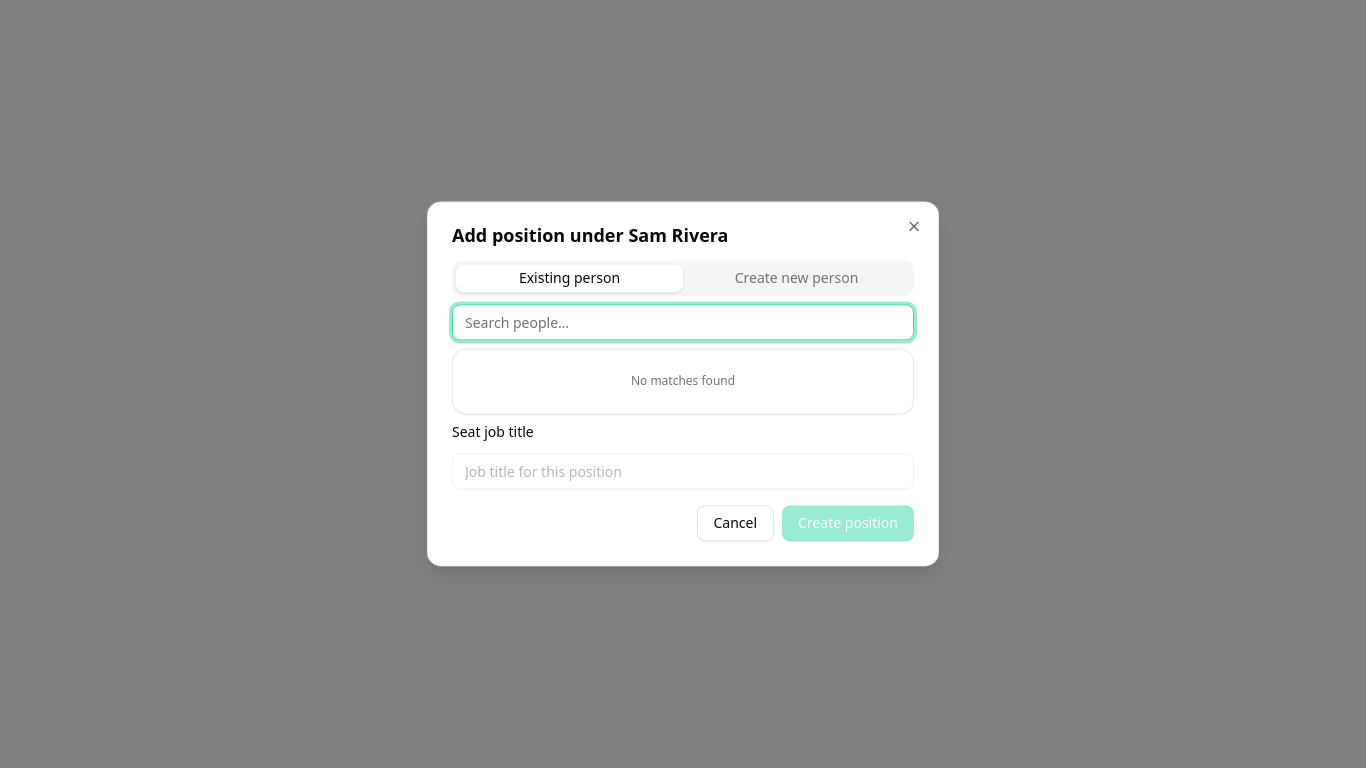
Test: AddNodeDialog › explains why a new person cannot be created
Click the button "Create new person". click: (796, 278)
box: 683,264 -> 910,292
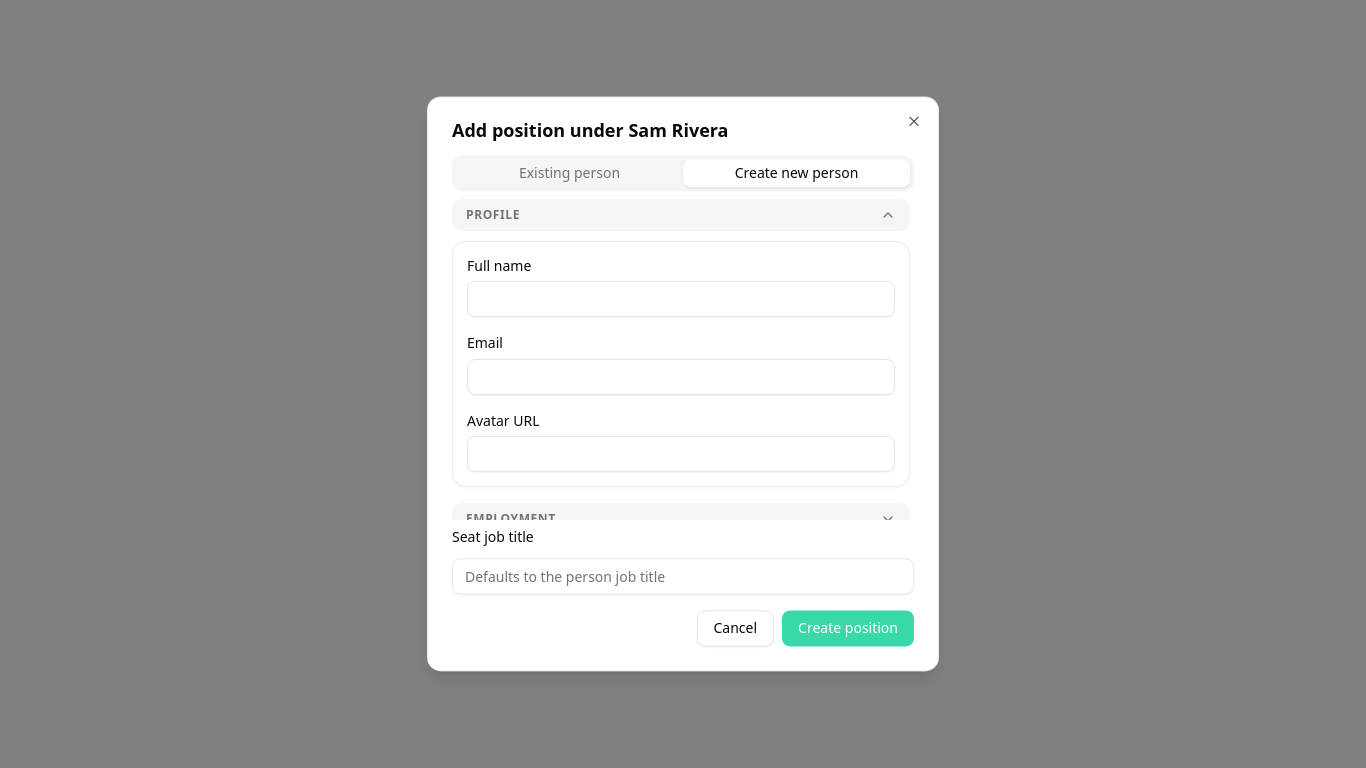
Type "John" into the field labelled "Full name". click: (681, 300)
box: 467,282 -> 895,318
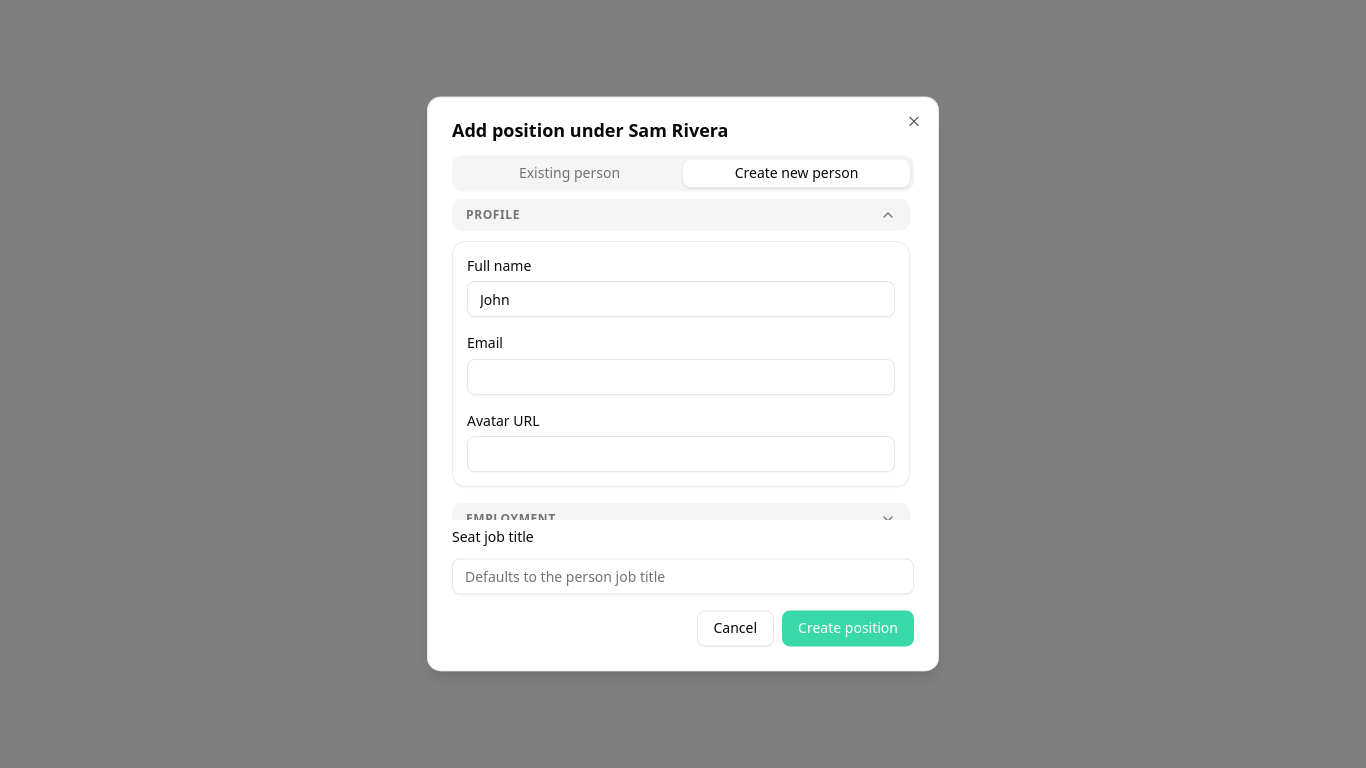
Type "Doe" into the field labelled "Email". click: (681, 377)
box: 467,359 -> 895,395
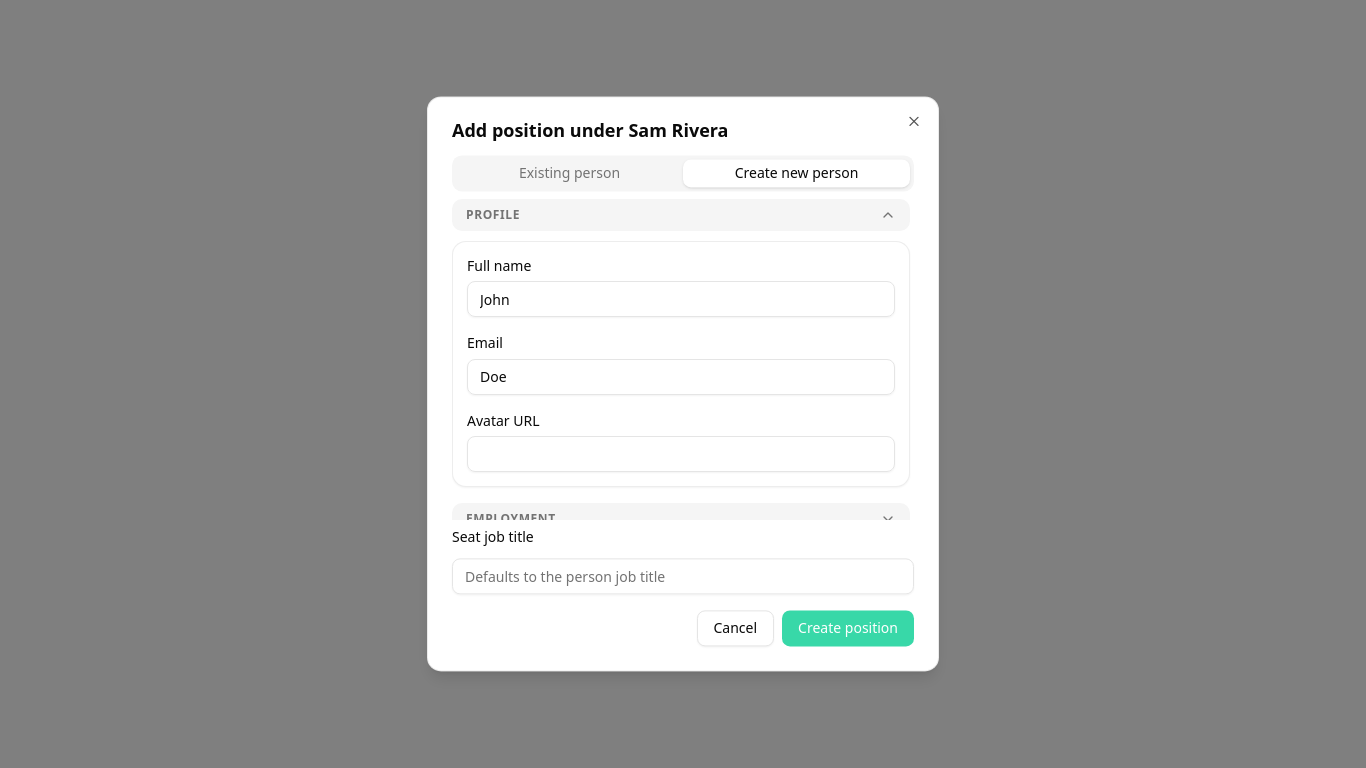
Type "Senior ML Engineer" into the field labelled "Seat job title". click: (683, 577)
box: 452,559 -> 914,595
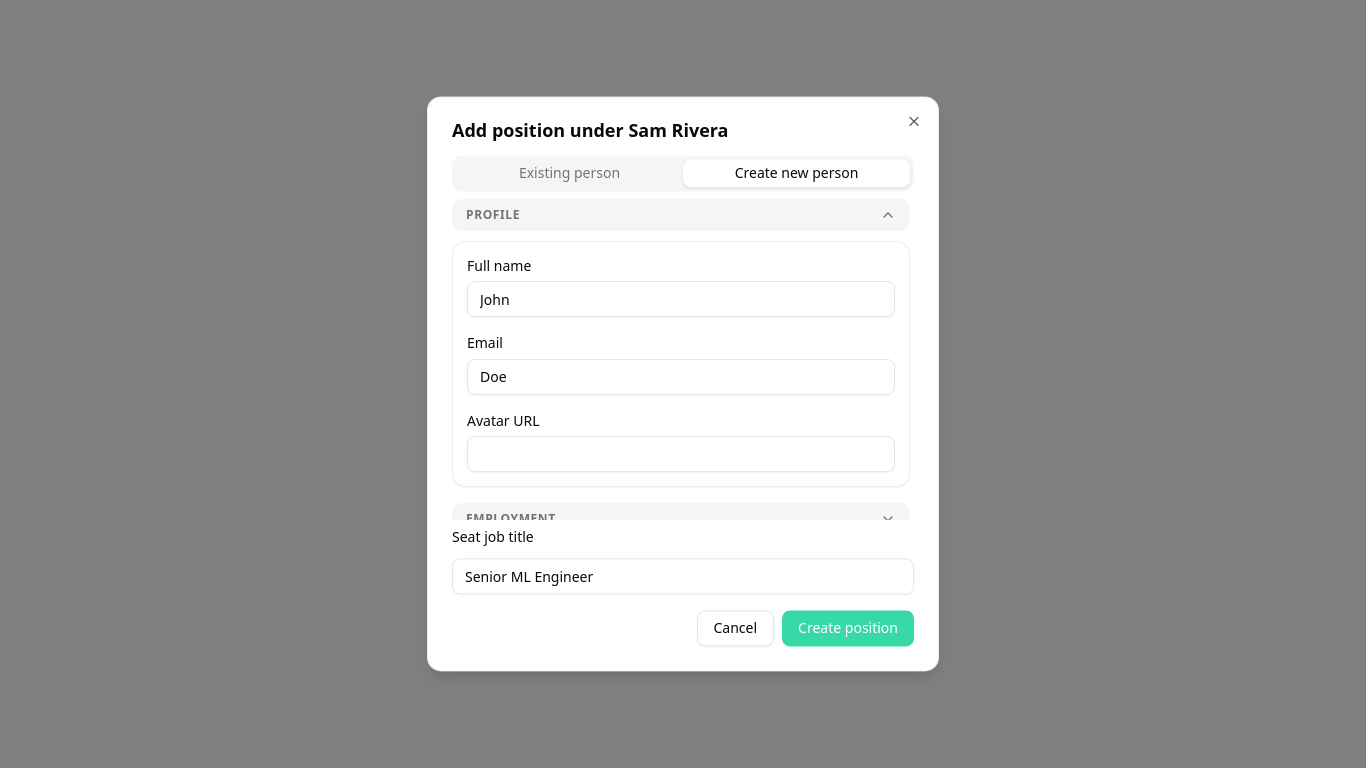
Click the button "Create position". click: (848, 629)
box: 782,611 -> 914,647
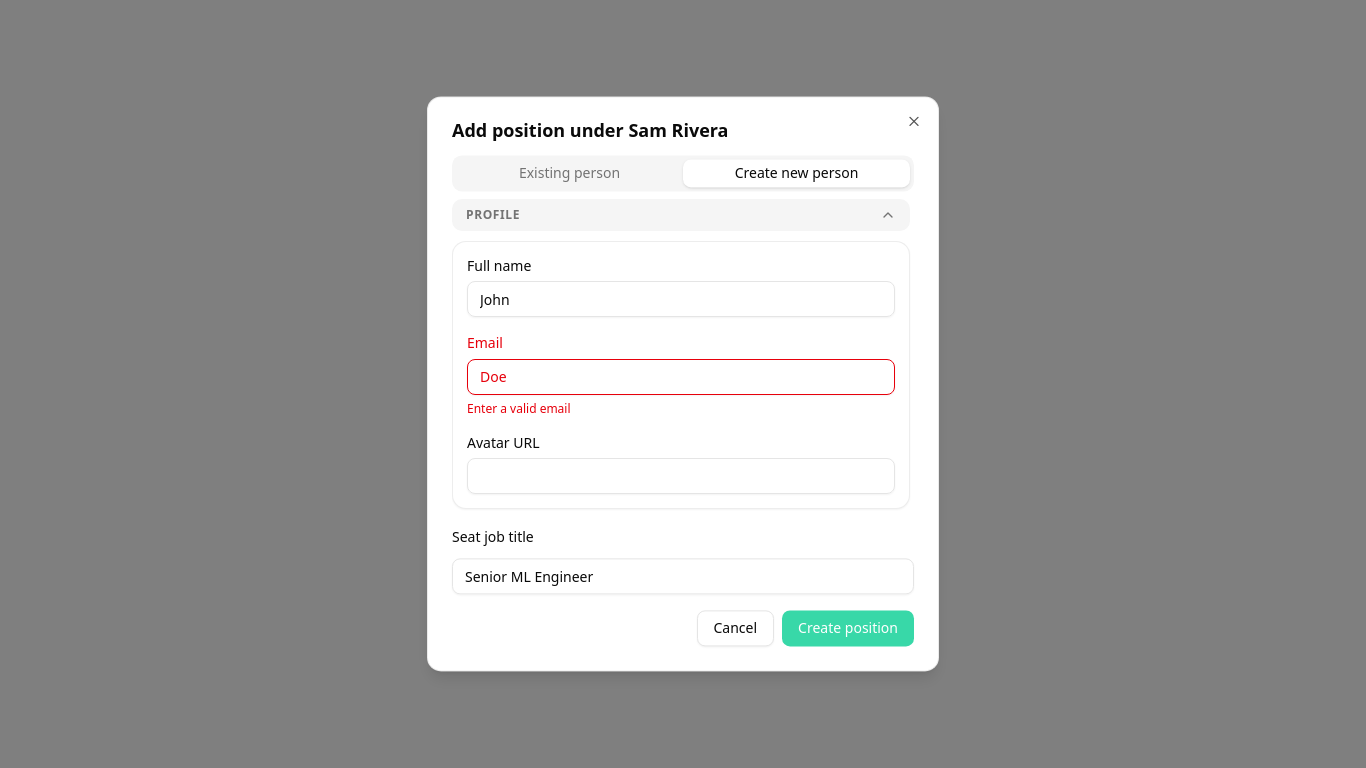
Result: the message reads "Enter a valid email" at 467,400 -> 571,417
